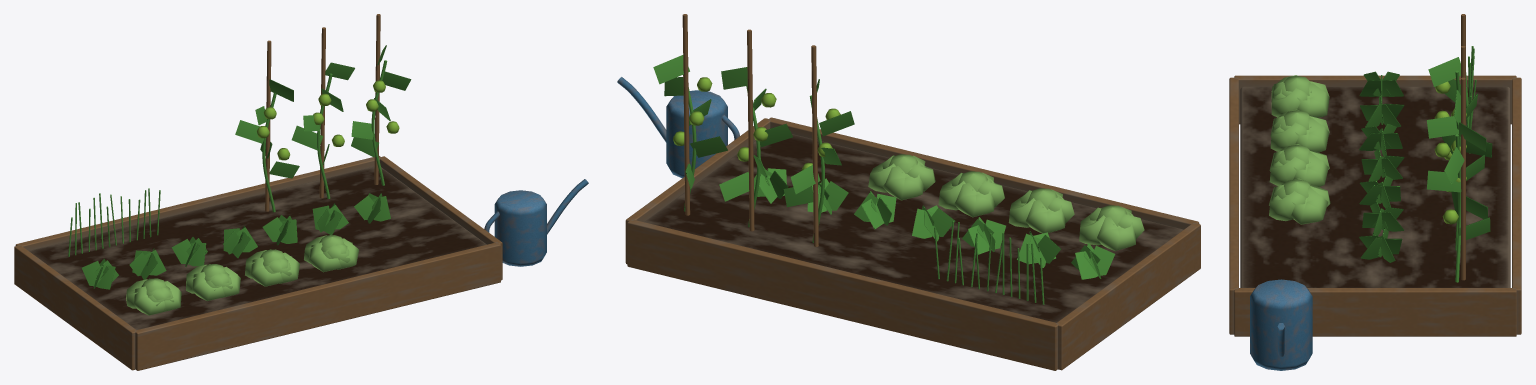
File: pod_grzadka.glb
3 renders of one model, left to right at view 1: azimuth 30°, elevation 25°; view 2: azimuth 150°, elevation 25°; view 3: azimuth 270°, elevation 25°, orthographic. The views are drawn at different scales.
Visible parts, largest first — view 1: Skrzynia, Rosliny, Konewka; view 2: Skrzynia, Rosliny, Konewka; view 3: Skrzynia, Rosliny, Konewka.
Boxes of the visible parts, box(x1,y1,x2,y2) form: Skrzynia: box(14, 156, 502, 370); Rosliny: box(68, 14, 411, 315); Konewka: box(484, 179, 588, 266); Skrzynia: box(625, 117, 1200, 370); Rosliny: box(653, 14, 1144, 304); Konewka: box(617, 77, 739, 178); Skrzynia: box(1229, 75, 1521, 336); Rosliny: box(1269, 14, 1492, 282); Konewka: box(1250, 279, 1312, 370).
Size of the model in its own units: 2.09 by 0.8501 by 0.93.
Materials: 6 (2 with a texture image).
